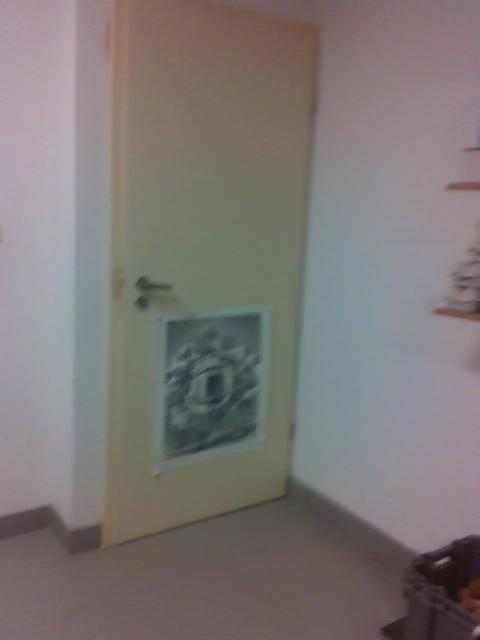door: (108, 1, 314, 545)
